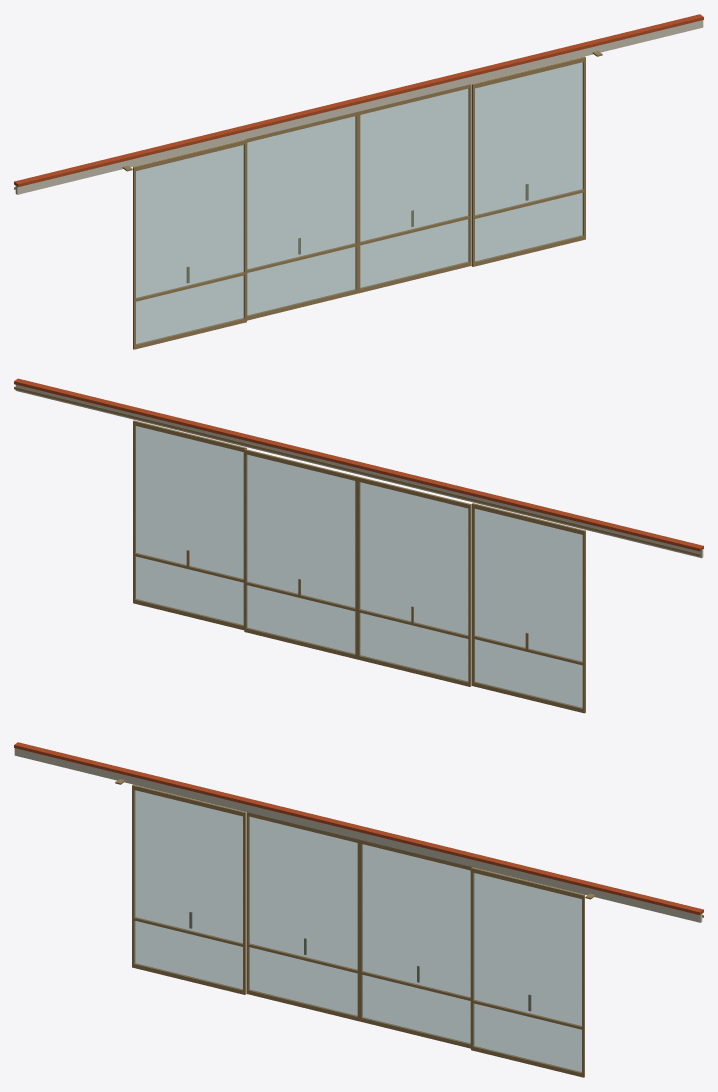
File: large_foyer_10m_r001.glb
3 renders of one model, top to bottom at view 1: azimuth 30°, elevation 25°; view 2: azimuth 150°, elevation 25°; view 3: azimuth 330°, elevation 25°, orthographic.
Parts seen in each view (by area): view 1: Panel_L1_glass, Panel_R0_glass, Panel_L0_glass, Panel_R1_glass, track_back, track_cap, Panel_R0_stile_left, Panel_R1_stile_right, Panel_L1_stile_right, Panel_L0_stile_right, Panel_R0_stile_right, Panel_R0_top_rail (+7 smaller); view 2: Panel_R1_glass, Panel_L1_glass, Panel_R0_glass, Panel_L0_glass, track_cap, track_back, track_brass, Panel_L0_stile_left, Panel_L1_stile_left, Panel_L0_stile_right, Panel_L1_stile_right, Panel_R1_stile_right (+10 smaller); view 3: Panel_R1_glass, Panel_R0_glass, Panel_L0_glass, Panel_L1_glass, track_back, track_cap, Panel_L0_stile_right, Panel_L1_stile_left, Panel_R1_stile_left, Panel_R0_stile_left, Panel_L0_stile_left, Panel_L0_top_rail (+7 smaller).
Part boxes in pixels (left/top/right/bottom): Panel_L1_glass: left=247, top=116, right=355, bottom=315; Panel_R0_glass: left=475, top=62, right=583, bottom=261; Panel_L0_glass: left=136, top=145, right=244, bottom=344; Panel_R1_glass: left=360, top=88, right=468, bottom=288; track_back: left=15, top=20, right=703, bottom=194; track_cap: left=14, top=14, right=703, bottom=186; Panel_R0_stile_left: left=471, top=83, right=474, bottom=266; Panel_R1_stile_right: left=468, top=84, right=471, bottom=266; Panel_L1_stile_right: left=355, top=112, right=358, bottom=293; Panel_L0_stile_right: left=243, top=139, right=246, bottom=322; Panel_R0_stile_right: left=582, top=56, right=585, bottom=239; Panel_R0_top_rail: left=474, top=57, right=583, bottom=88; Panel_R1_glass: left=246, top=454, right=355, bottom=654; Panel_L1_glass: left=359, top=482, right=468, bottom=681; Panel_R0_glass: left=135, top=426, right=243, bottom=625; Panel_L0_glass: left=474, top=509, right=582, bottom=708; track_cap: left=14, top=378, right=703, bottom=551; track_back: left=15, top=384, right=703, bottom=558; track_brass: left=14, top=387, right=700, bottom=556; Panel_L0_stile_left: left=582, top=530, right=585, bottom=713; Panel_L1_stile_left: left=468, top=503, right=471, bottom=686; Panel_L0_stile_right: left=471, top=503, right=474, bottom=686; Panel_L1_stile_right: left=357, top=476, right=360, bottom=659; Panel_R1_stile_right: left=244, top=449, right=247, bottom=632; Panel_R1_glass: left=362, top=844, right=470, bottom=1043; Panel_R0_glass: left=473, top=873, right=581, bottom=1072; Panel_L0_glass: left=134, top=790, right=242, bottom=989; Panel_L1_glass: left=249, top=816, right=357, bottom=1016; track_back: left=14, top=748, right=702, bottom=922; track_cap: left=14, top=742, right=703, bottom=914; Panel_L0_stile_right: left=243, top=811, right=246, bottom=994; Panel_L1_stile_left: left=246, top=812, right=249, bottom=994; Panel_R1_stile_left: left=359, top=840, right=362, bottom=1021; Panel_R0_stile_left: left=471, top=867, right=474, bottom=1050; Panel_L0_stile_left: left=132, top=784, right=135, bottom=967; Panel_L0_top_rail: left=134, top=785, right=243, bottom=816.
Bounding box in the file's own units: 15.18 × 4.11 × 0.345.
Materials: 4 (3 with a texture image).
